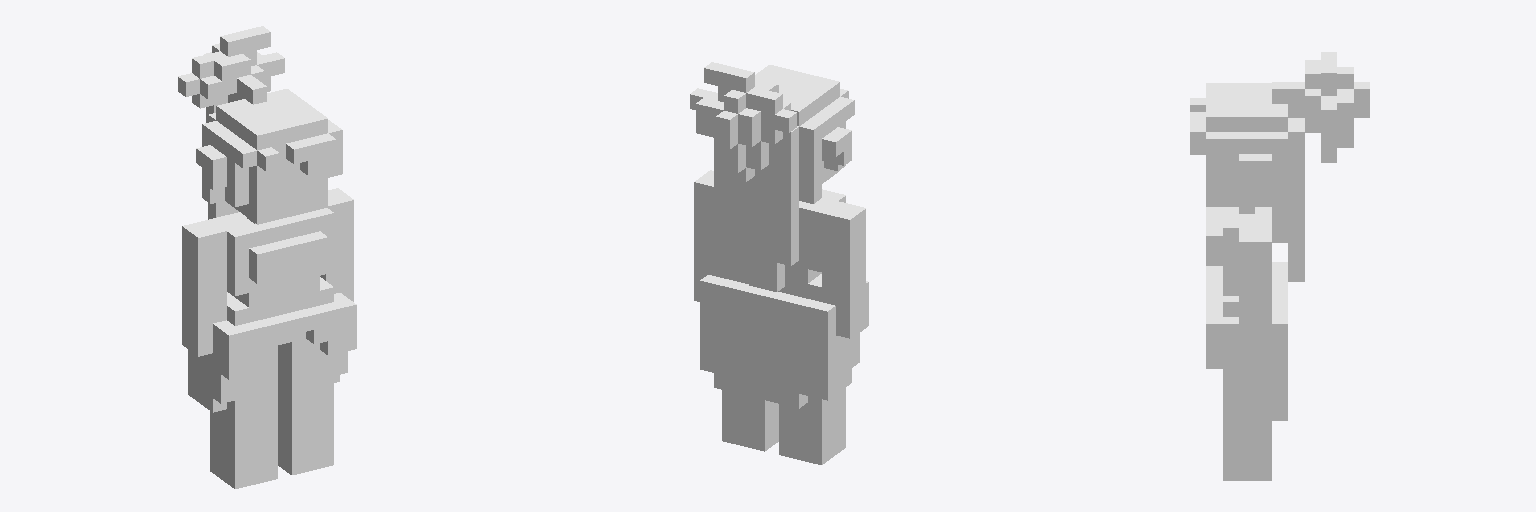
The model's file is Marigold.obj.
The picture shows the model from 3 angles: view 1: azimuth 30°, elevation 25°; view 2: azimuth 150°, elevation 25°; view 3: azimuth 270°, elevation 25°; orthographic projection.
Parts seen in each view (by area): view 1: object 1; view 2: object 1; view 3: object 1.
Boxes of the visible parts, x1,y1,x2,y2 form: object 1: [178, 26, 356, 488]; object 1: [690, 62, 868, 464]; object 1: [1190, 52, 1369, 480].
Size of the model in its own units: 1.1 by 2.7 by 1.1.